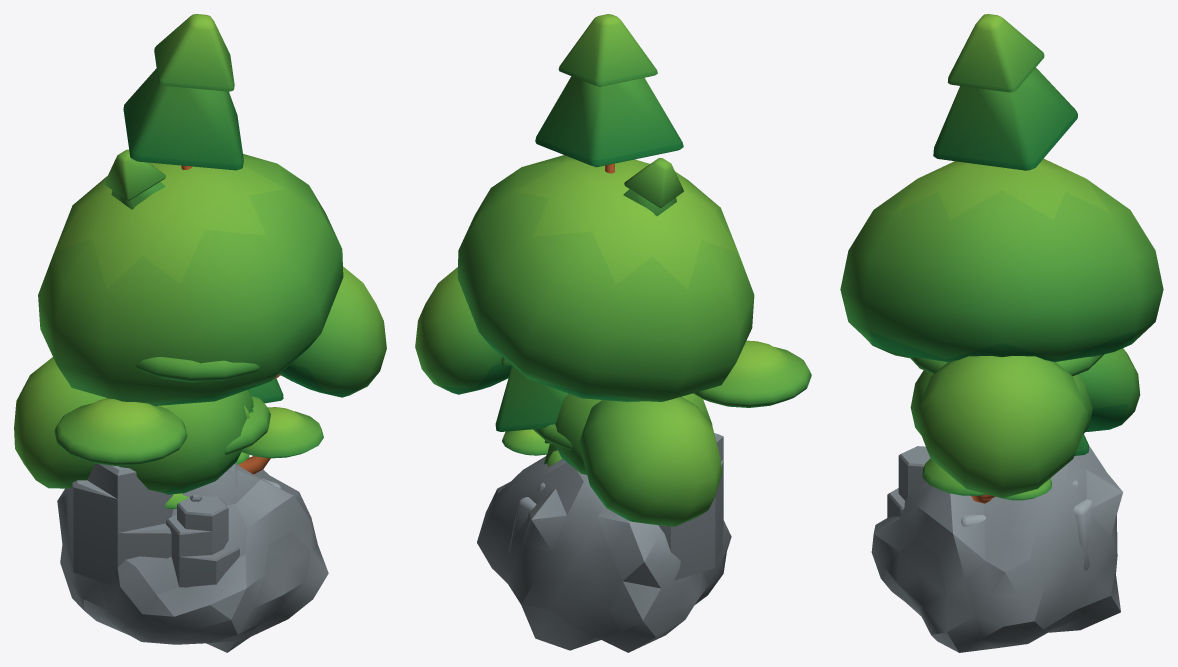
The model's file is forest.glb.
3 views of the same model, side by side, from view 1: azimuth 30°, elevation 25°; view 2: azimuth 150°, elevation 25°; view 3: azimuth 270°, elevation 25° (orthographic). The views are drawn at different scales.
Parts seen in each view (by area): view 1: Tree_1_C_Color1, Rock_3_Q_Color1, Tree_4_C_Color1, Rock_1_J_Color1, Tree_3_C_Color1, Tree_1_A_Color1, Tree_3_A_Color1; view 2: Tree_1_C_Color1, Rock_3_Q_Color1, Tree_4_C_Color1, Tree_3_C_Color1, Rock_1_J_Color1, Tree_1_A_Color1; view 3: Tree_1_C_Color1, Rock_3_Q_Color1, Tree_4_C_Color1, Tree_3_C_Color1, Rock_1_J_Color1, Rock_2_G_Color1, Tree_1_A_Color1.
Part boxes in pixels (x1,y1,x2,y2): Tree_1_C_Color1: (14,154,386,488); Rock_3_Q_Color1: (57,457,328,652); Tree_4_C_Color1: (104,14,283,403); Rock_1_J_Color1: (67,463,239,587); Tree_3_C_Color1: (54,357,323,474); Tree_1_A_Color1: (106,390,253,494); Tree_3_A_Color1: (164,396,270,508); Tree_1_C_Color1: (415,155,754,526); Rock_3_Q_Color1: (477,456,731,652); Tree_4_C_Color1: (495,14,683,431); Tree_3_C_Color1: (502,340,811,455); Rock_1_J_Color1: (658,433,723,580); Tree_1_A_Color1: (547,393,712,474); Tree_1_C_Color1: (840,158,1163,498); Rock_3_Q_Color1: (871,445,1122,652); Tree_4_C_Color1: (933,14,1088,455); Tree_3_C_Color1: (866,339,1104,503); Rock_1_J_Color1: (887,446,930,517); Rock_2_G_Color1: (961,480,1092,570); Tree_1_A_Color1: (910,370,1092,478).
Bounding box in the file's own units: 7.18 × 12.04 × 5.75.
Materials: 1 (1 with a texture image).
